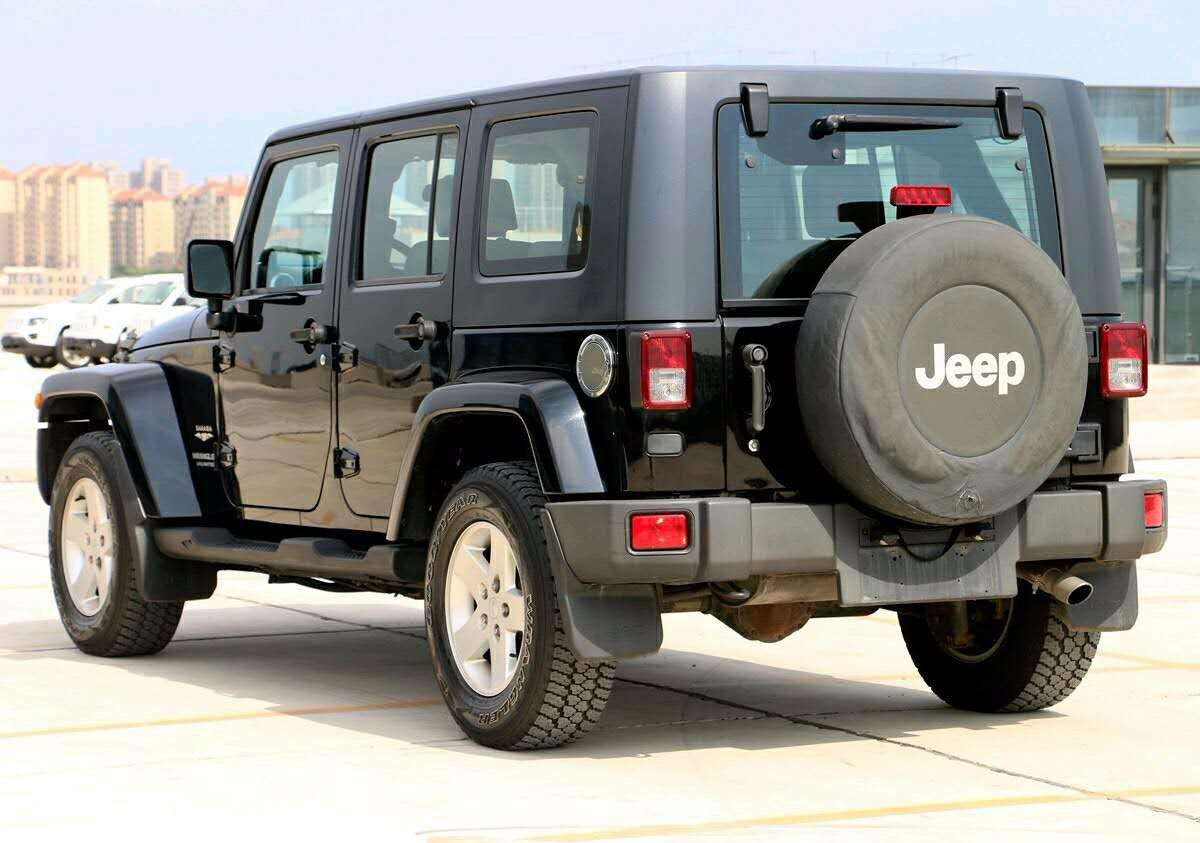jeep: (47, 79, 1131, 751)
